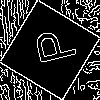P: (25, 25, 77, 69)
